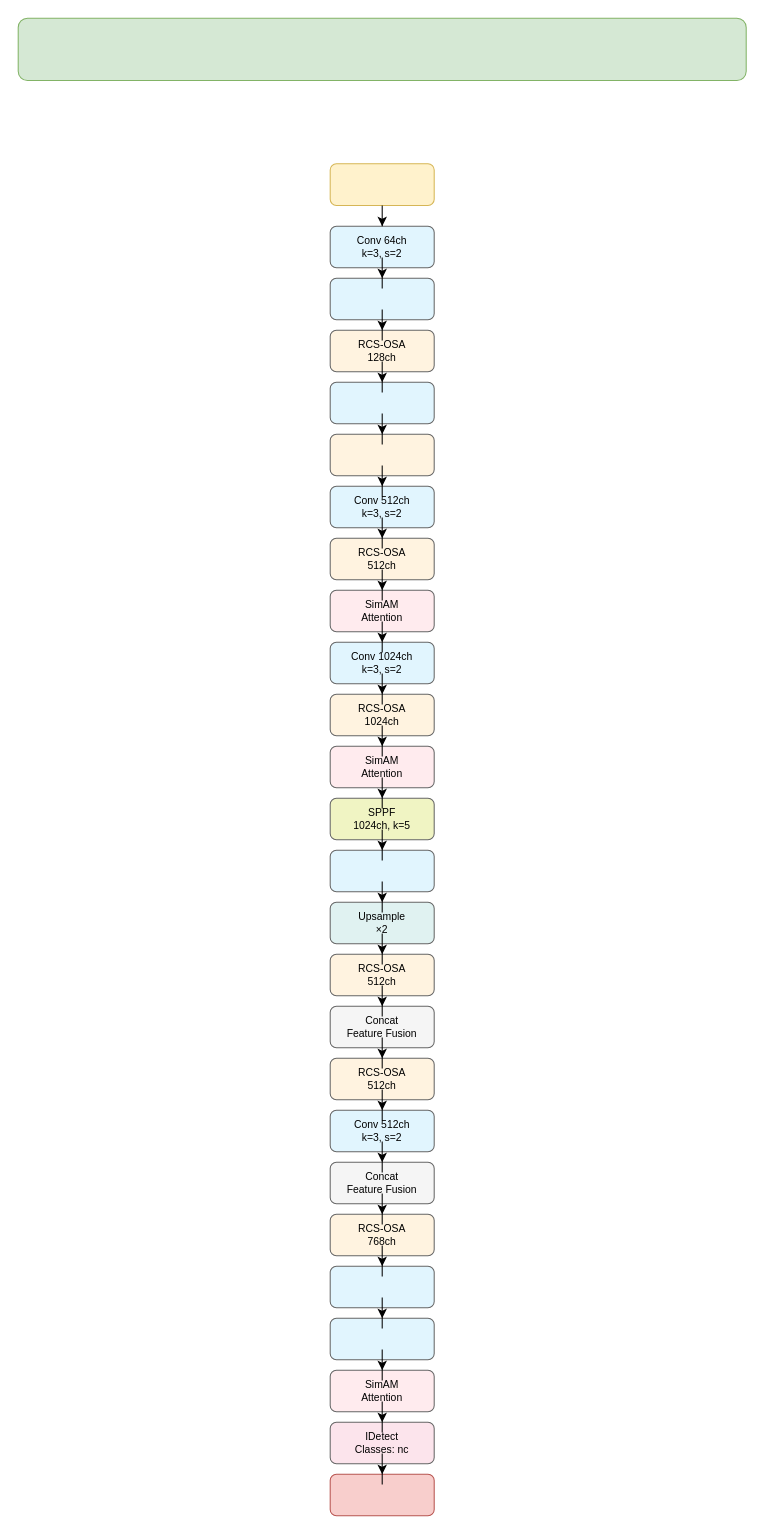
Some shapes in this 764 by 1534 pixel diagram are drawn without their labels. The shapes that lost their labels are listed below. From the top down, each one's centre as x and y in pixels, then its label:
point 381,49: YOLOv4-RCSOSA-SimAM RCS-OSA模块 + SimAM注意力机制 + IDetect检测头
point 381,184: Input Image 640×640×3
point 381,298: Conv 128ch k=3, s=2
point 381,402: Conv 256ch k=3, s=2
point 381,454: RCS-OSA 256ch
point 381,870: Conv 512ch k=1, s=1
point 381,1286: Conv 512ch k=3, s=1
point 381,1338: Conv 768ch k=3, s=1
point 381,1494: Output Detection Results
